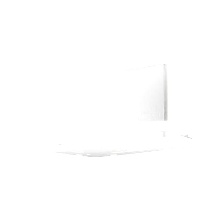foam_box: (21, 56, 207, 166)
